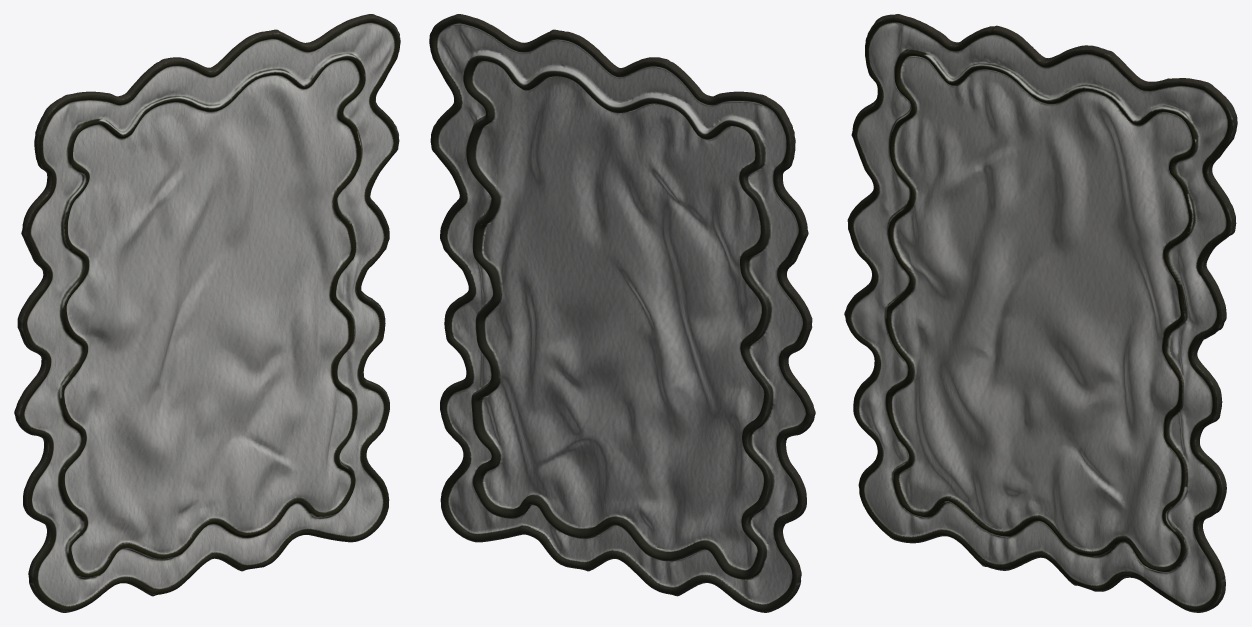
File: design2.glb
The picture shows the model from 3 angles, left to right: view 1: azimuth 30°, elevation 25°; view 2: azimuth 150°, elevation 25°; view 3: azimuth 330°, elevation 25°; orthographic projection.
Bounding box in the file's own units: 1.42 × 1.9 × 0.0789.
1 material, 1 textured.
